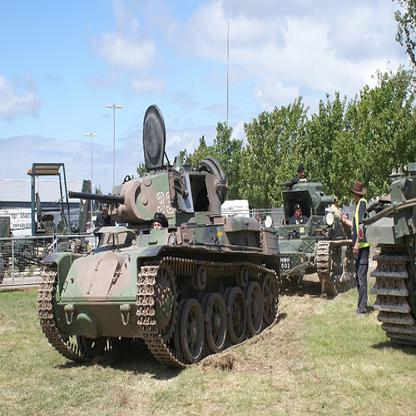Tank: (30, 143, 289, 372)
